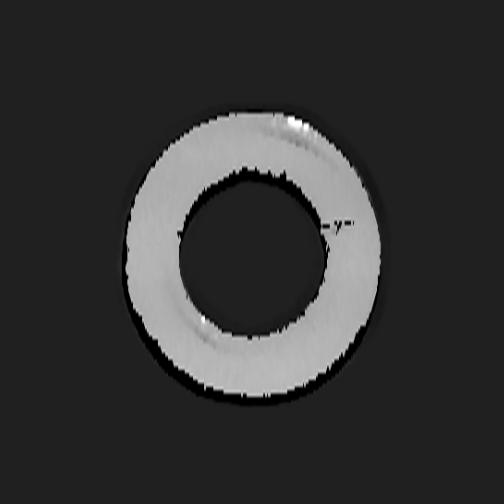defect: (321, 216, 358, 237)
